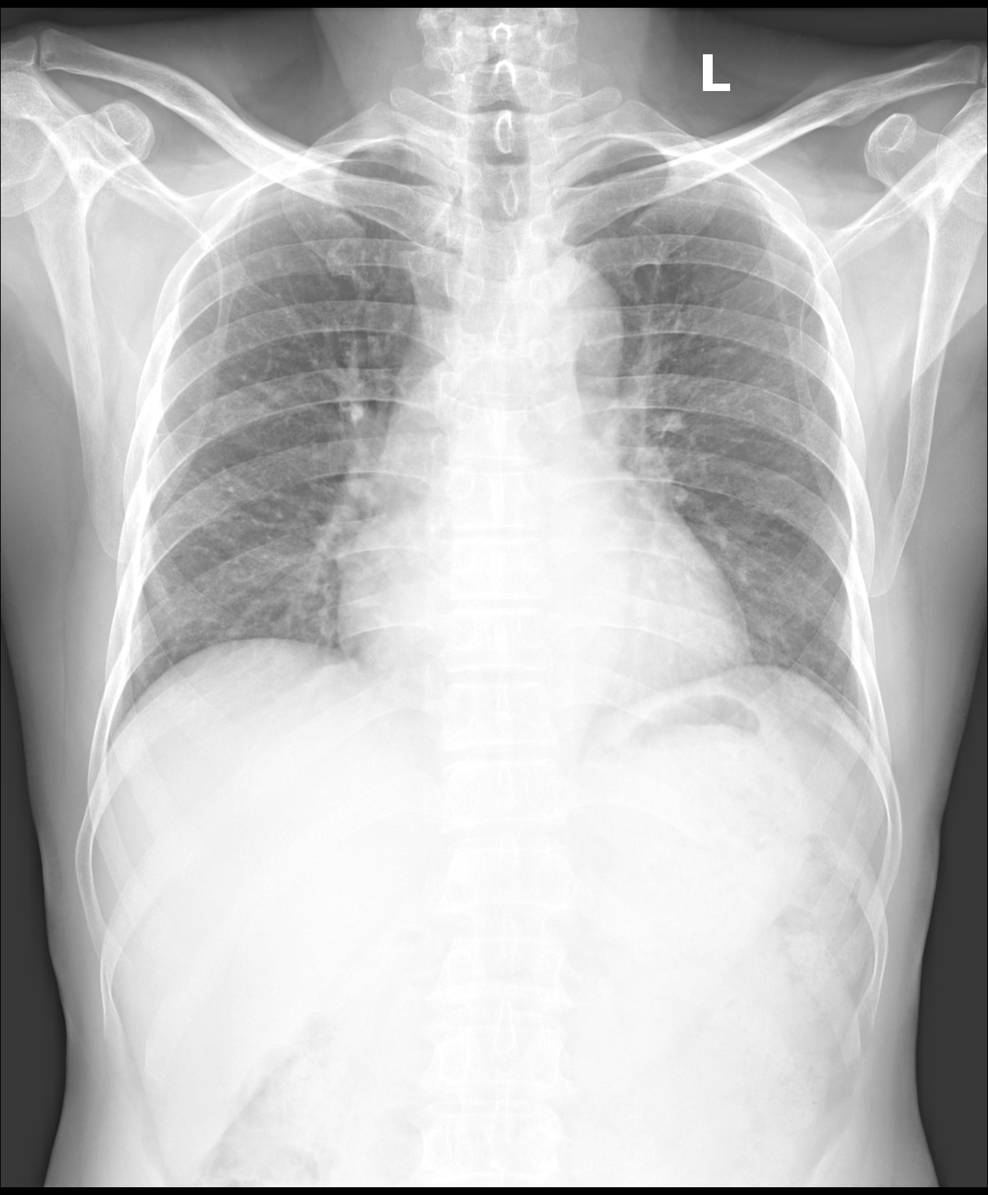Aortic enlargement: (519, 256, 625, 384)
Cardiomegaly: (332, 549, 749, 689)
Pleural thickening: (557, 137, 651, 178), (346, 140, 414, 156)
